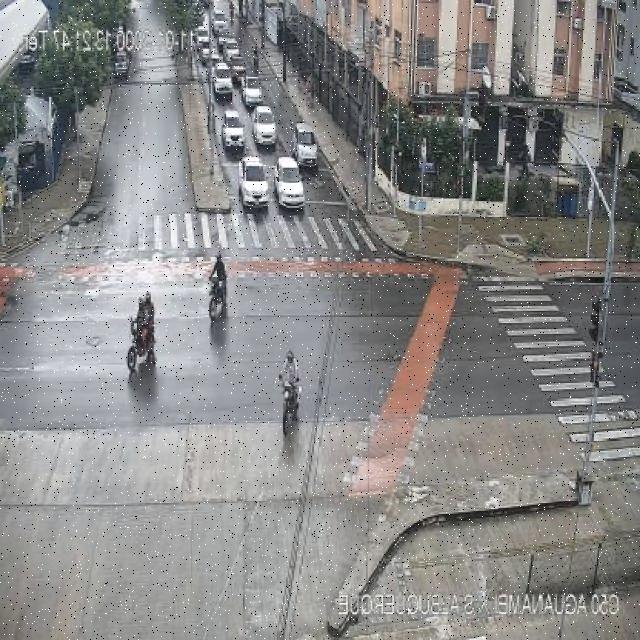Car: (274, 156, 306, 213), (238, 157, 271, 210), (292, 122, 320, 170), (250, 103, 278, 150), (221, 110, 245, 151), (211, 61, 232, 103), (240, 73, 264, 106), (228, 57, 249, 84), (212, 9, 228, 33), (201, 45, 219, 65), (224, 39, 239, 60), (195, 28, 213, 44)
Cycle: (120, 286, 162, 382), (276, 348, 306, 434), (203, 252, 230, 320)
